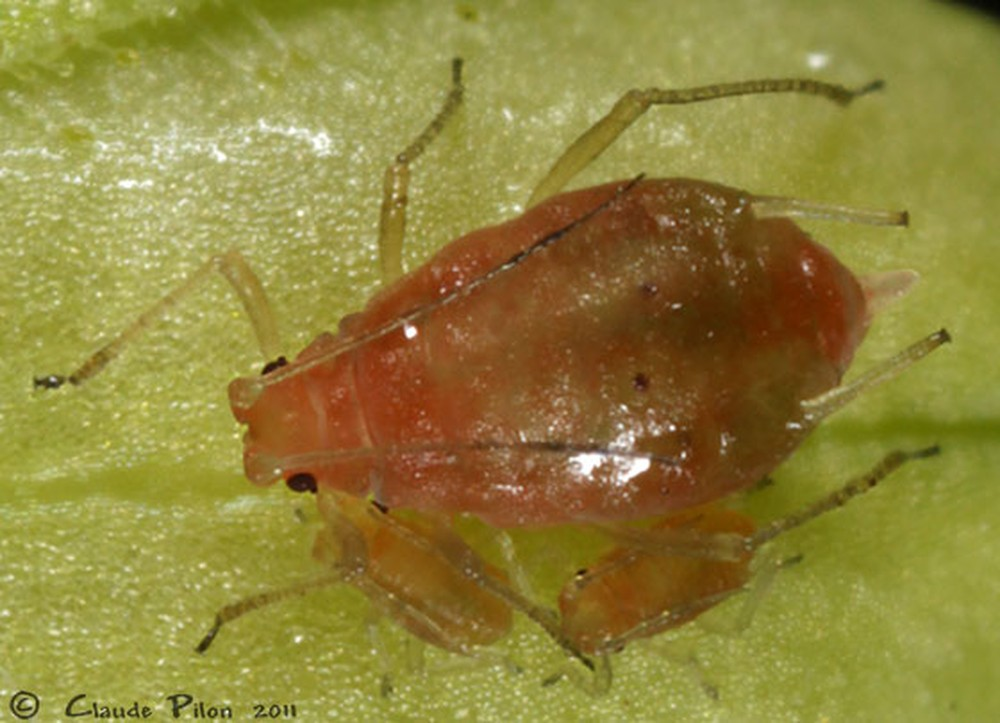Pulgon: (148, 70, 955, 620), (552, 481, 806, 694), (316, 471, 546, 687)
